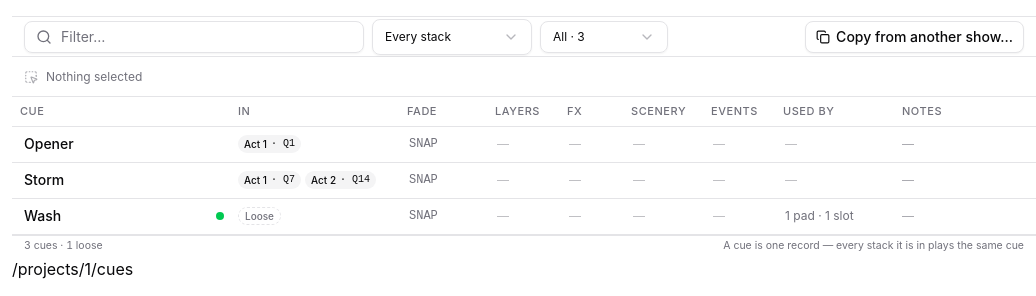
Test case: the cue action set over several rows › says why Remove from stack is off for a cue in several places, even beside one it could remove
Click the element showing "Storm" at (122, 180), box [12,162,232,198]
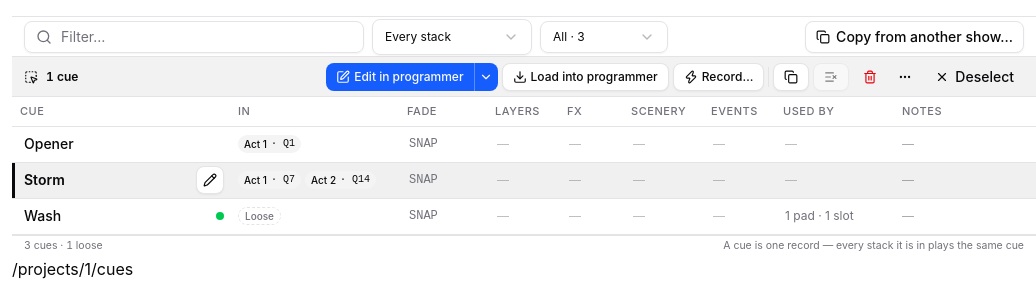
Click the element showing "Opener" at (122, 144), box [12,126,232,162]
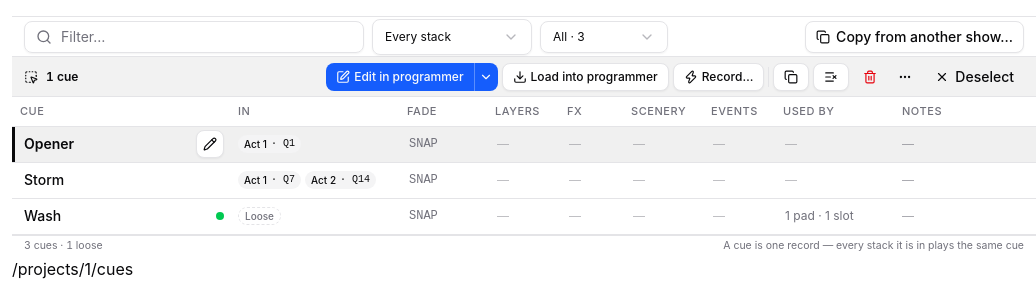
Click the element showing "Storm" at (122, 180), box [12,162,232,198]
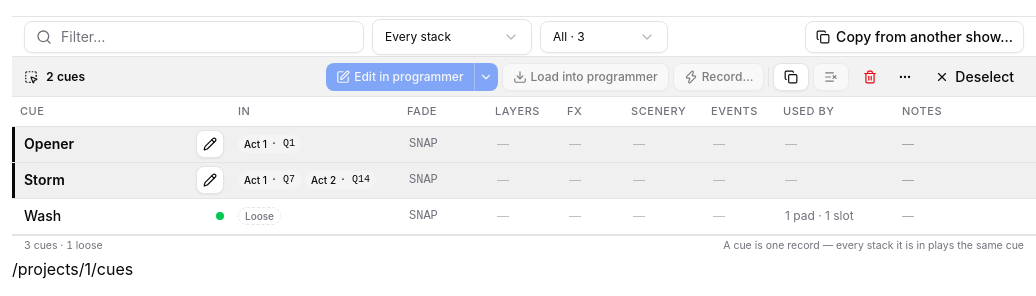
Result: the button named "Remove from stack" is disabled at [813,62,849,90]
